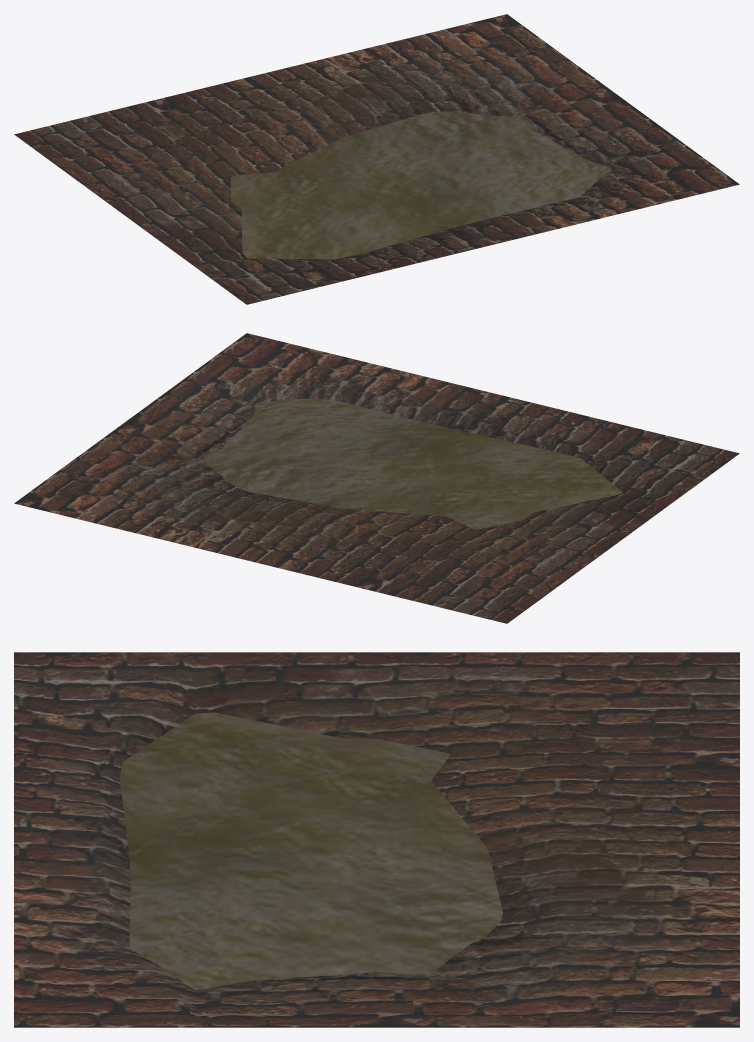
Rendered from BrickFloor_1.FBX.
The picture shows the model from 3 angles, top to bottom: view 1: azimuth 30°, elevation 25°; view 2: azimuth 150°, elevation 25°; view 3: azimuth 270°, elevation 25°; orthographic projection. The views are drawn at different scales.
Parts seen in each view (by area): view 1: BrickFloor_1; view 2: BrickFloor_1; view 3: BrickFloor_1.
Part boxes in pixels (x1,y1,x2,y2): BrickFloor_1: [14, 14, 739, 304]; BrickFloor_1: [14, 333, 739, 623]; BrickFloor_1: [14, 652, 739, 1027].
Bounding box in the file's own units: 7919 × 459 × 6476.
Materials: 2 (2 with a texture image).
